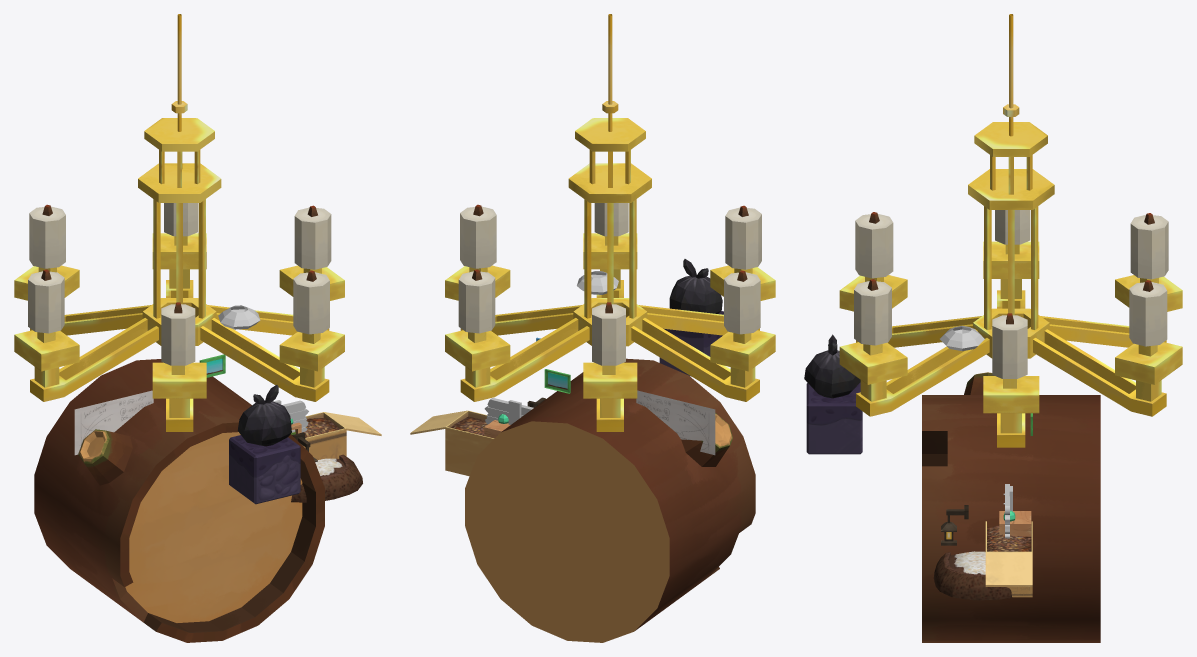
The picture shows the model from 3 angles, left to right: view 1: azimuth 30°, elevation 25°; view 2: azimuth 150°, elevation 25°; view 3: azimuth 270°, elevation 25°; orthographic projection. The views are drawn at different scales.
Parts seen in each view (by area): view 1: Log, Chandelier, Cube, GarbageBag, Paper, Seedbox, Nest, Light; view 2: Log, Chandelier, Seedbox, Paper, GarbageBag, Sign, Cube, Light, Frame01; view 3: Chandelier, Log, Cube, Seedbox, Nest, GarbageBag, Light, Bookshelf, Lantern.
Boxes of the visible parts, <box> form: Log: <box>34,359,324,642</box>; Chandelier: <box>14,14,344,431</box>; Cube: <box>229,435,300,504</box>; GarbageBag: <box>237,385,291,446</box>; Paper: <box>74,390,153,455</box>; Seedbox: <box>301,412,381,459</box>; Nest: <box>291,454,362,502</box>; Light: <box>218,305,260,329</box>; Log: <box>465,358,755,642</box>; Chandelier: <box>445,14,775,431</box>; Seedbox: <box>410,410,494,476</box>; Paper: <box>636,390,715,455</box>; GarbageBag: <box>669,259,722,313</box>; Sign: <box>484,398,533,424</box>; Cube: <box>659,311,723,376</box>; Light: <box>577,271,618,294</box>; Frame01: <box>544,369,570,393</box>; Chandelier: <box>839,14,1182,447</box>; Log: <box>922,372,1100,642</box>; Cube: <box>806,382,862,454</box>; Seedbox: <box>985,521,1032,597</box>; Nest: <box>933,551,1011,600</box>; GarbageBag: <box>804,334,860,398</box>; Light: <box>940,325,984,351</box>; Bookshelf: <box>999,510,1031,536</box>; Lantern: <box>941,505,968,545</box>.
Bounding box in the file's own units: 733 × 1220 × 679.
